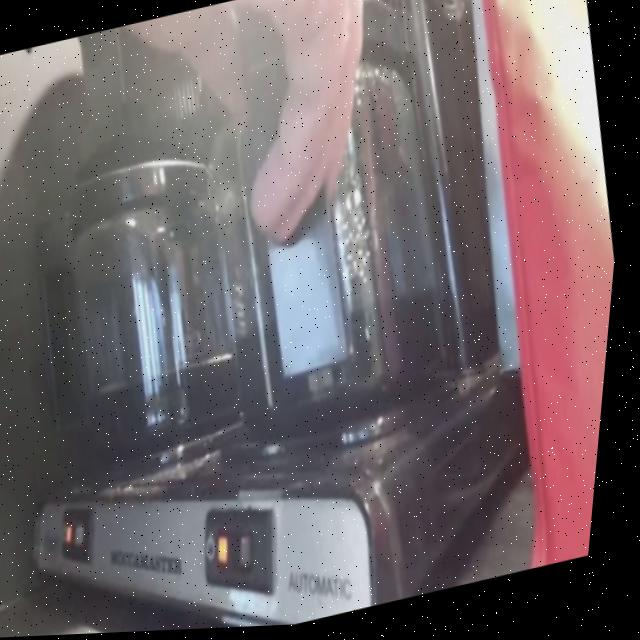coffee: (214, 208, 470, 443), (49, 210, 266, 460)
